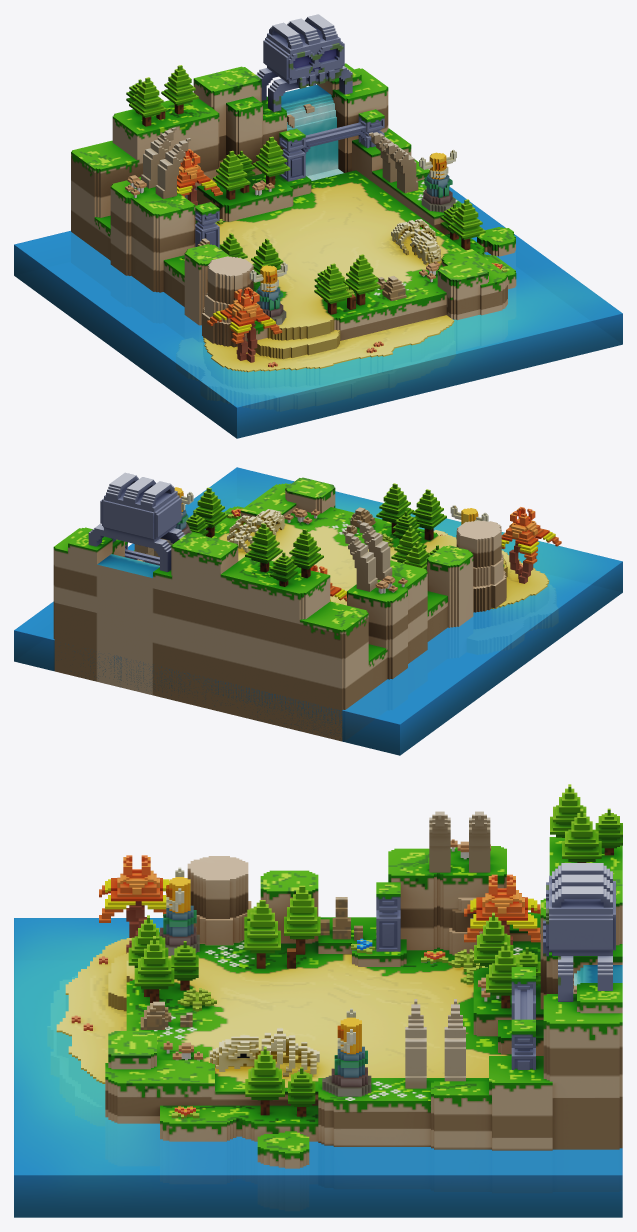
Rendered from BattleMap.fbx.
The picture shows the model from 3 angles, top to bottom: view 1: azimuth 30°, elevation 25°; view 2: azimuth 150°, elevation 25°; view 3: azimuth 270°, elevation 25°; orthographic projection. The views are drawn at different scales.
Visible parts, largest first — view 1: BattleMap; view 2: BattleMap; view 3: BattleMap.
Part boxes in pixels (box(x1,y1,x2,y2)): BattleMap: box(14, 14, 622, 438); BattleMap: box(14, 467, 622, 755); BattleMap: box(14, 784, 622, 1217).
Size of the model in its own units: 200 by 96 by 200.
